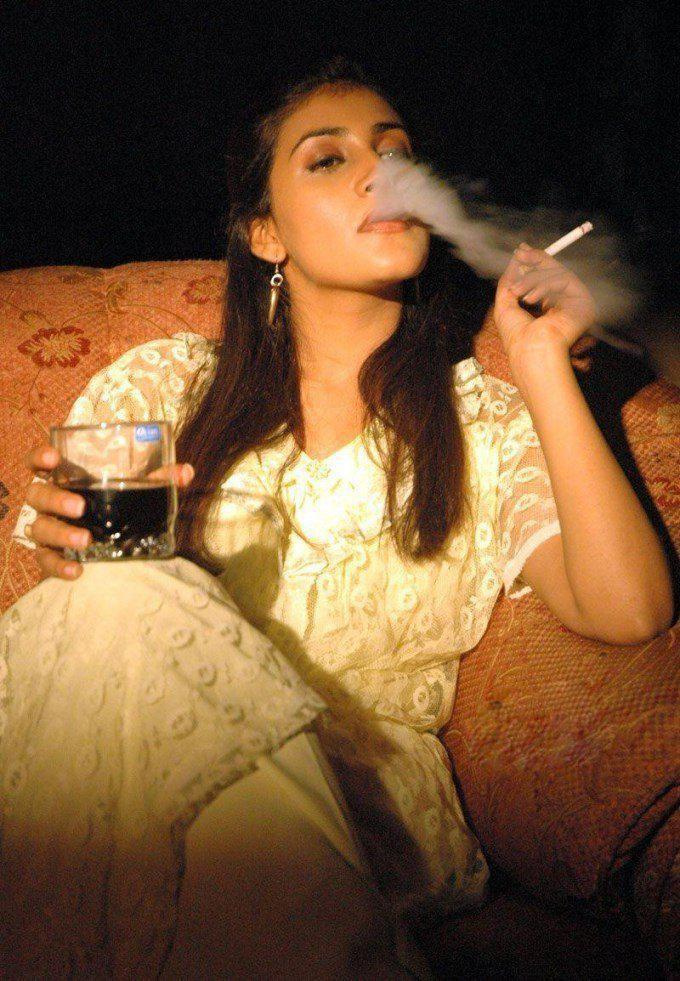Drunk: (277, 84, 435, 280)
